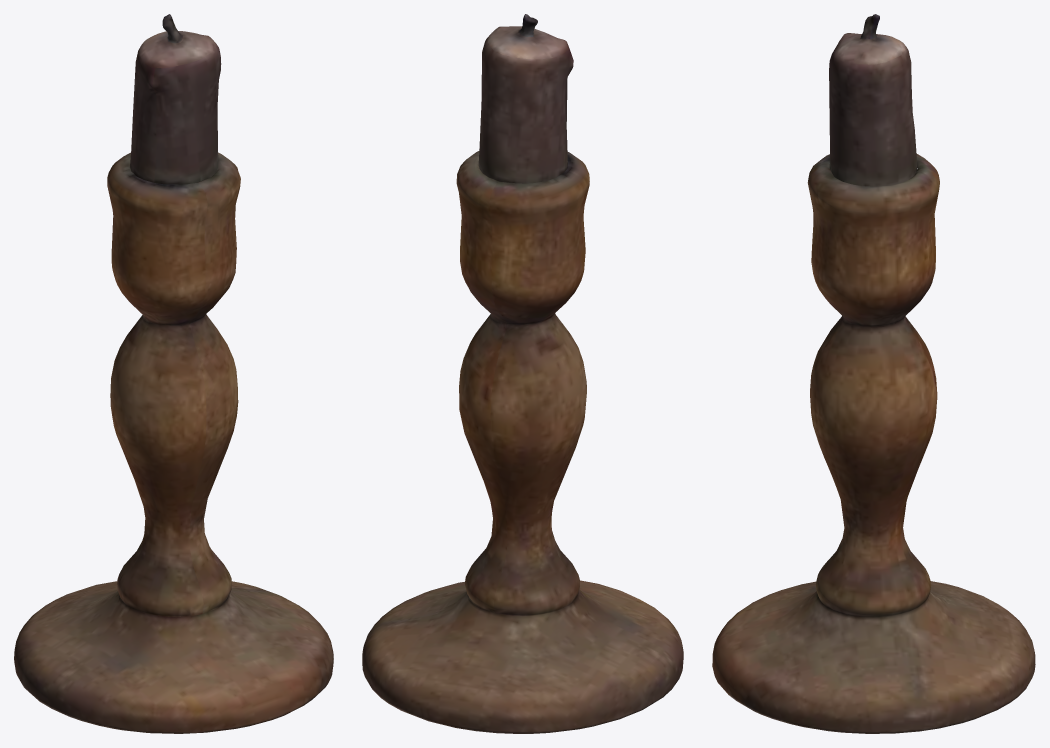
The model's file is candlestick.glb.
The picture shows the model from 3 angles, left to right: view 1: azimuth 30°, elevation 25°; view 2: azimuth 150°, elevation 25°; view 3: azimuth 270°, elevation 25°; orthographic projection.
Parts seen in each view (by area): view 1: wooden_candlestick; view 2: wooden_candlestick; view 3: wooden_candlestick.
Part boxes in pixels (x1,y1,x2,y2): wooden_candlestick: (14,14,333,733); wooden_candlestick: (362,14,683,733); wooden_candlestick: (712,14,1035,733).
Size of the model in its own units: 0.0972 by 0.2196 by 0.0986.
1 material, 1 textured.
